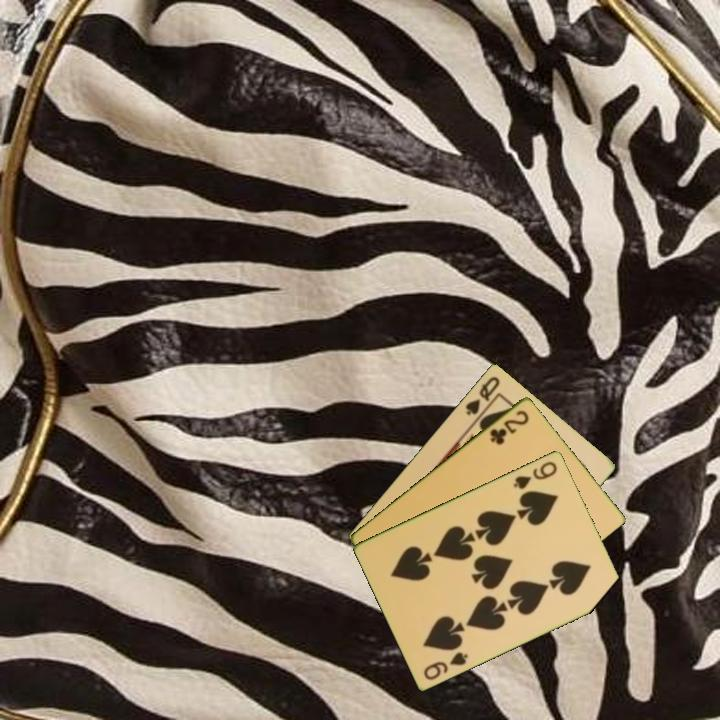2c: (486, 406, 532, 448)
9s: (420, 648, 471, 683), (510, 457, 560, 492)
Qs: (462, 372, 503, 418)
